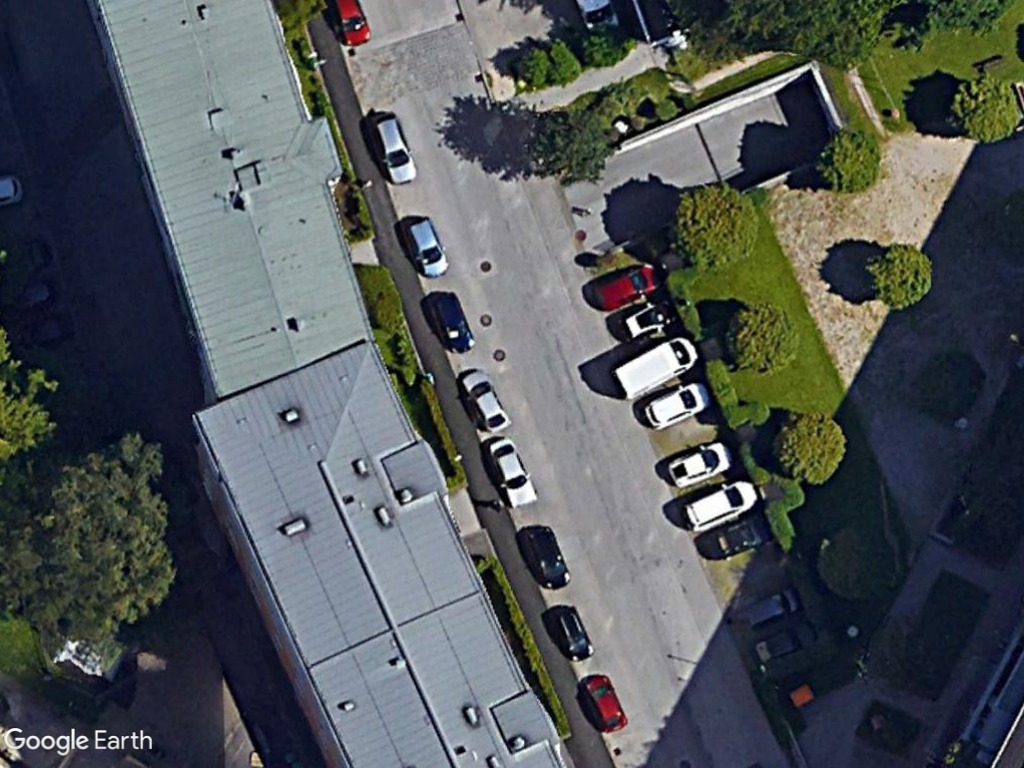car: (677, 476, 760, 533), (636, 373, 715, 431), (368, 108, 419, 189), (484, 437, 542, 508), (575, 666, 630, 739), (584, 263, 667, 311), (456, 363, 512, 433), (661, 439, 735, 491), (401, 210, 451, 281), (424, 289, 477, 355)
van: (607, 331, 702, 405)
